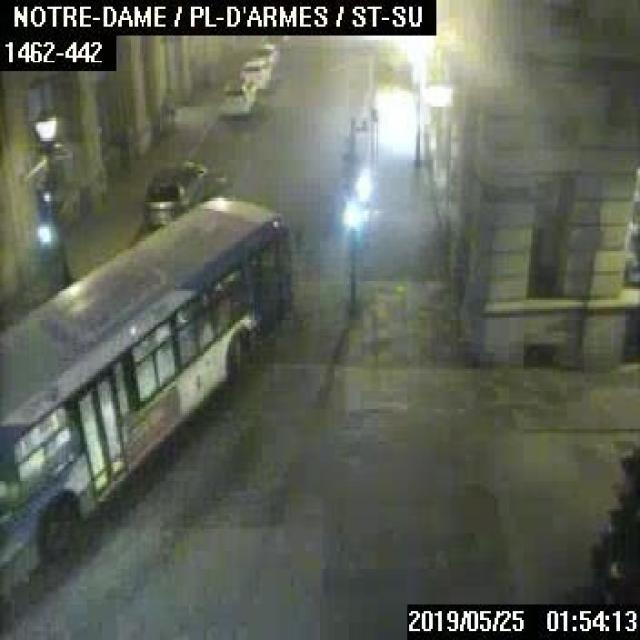bus: (0, 191, 291, 631)
vehicle: (141, 144, 215, 224), (214, 74, 258, 116), (238, 50, 280, 91)
